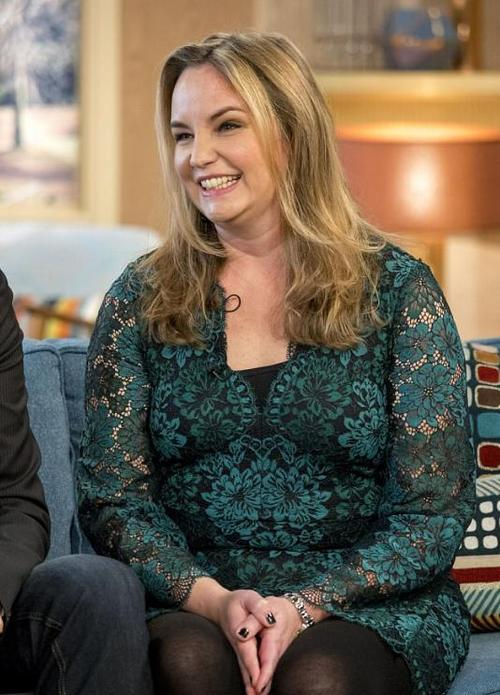no_mask: (148, 34, 334, 234)
